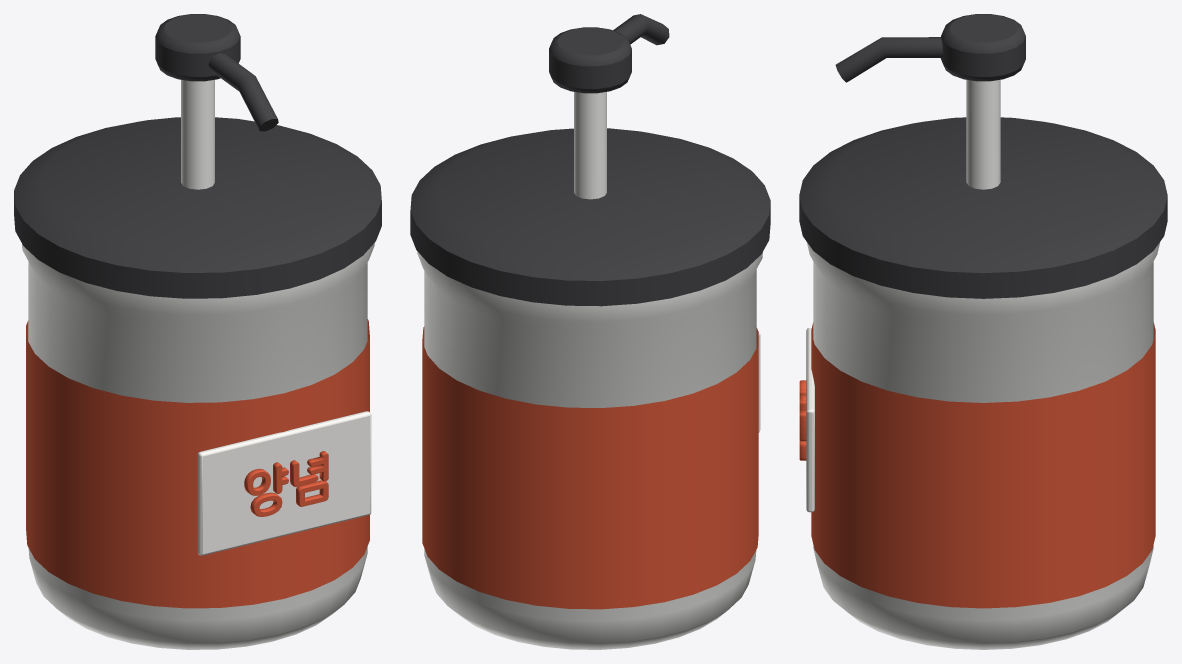
File: SauceTub_Yangnyeom.fbx
3 views of the same model, side by side, from view 1: azimuth 30°, elevation 25°; view 2: azimuth 150°, elevation 25°; view 3: azimuth 270°, elevation 25° (orthographic). The views are drawn at different scales.
Parts seen in each view (by area): view 1: SauceTub_Yangnyeom; view 2: SauceTub_Yangnyeom; view 3: SauceTub_Yangnyeom.
Part boxes in pixels (<box>): SauceTub_Yangnyeom: <box>14,14,381,649</box>; SauceTub_Yangnyeom: <box>410,14,770,649</box>; SauceTub_Yangnyeom: <box>799,14,1167,649</box>.
Bounding box in the file's own units: 0.26 × 0.435 × 0.26.
